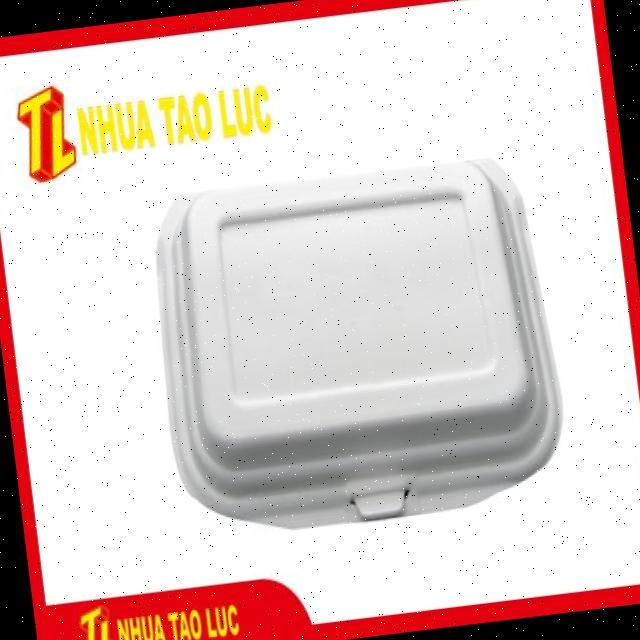styrofoam: (139, 146, 574, 545)
